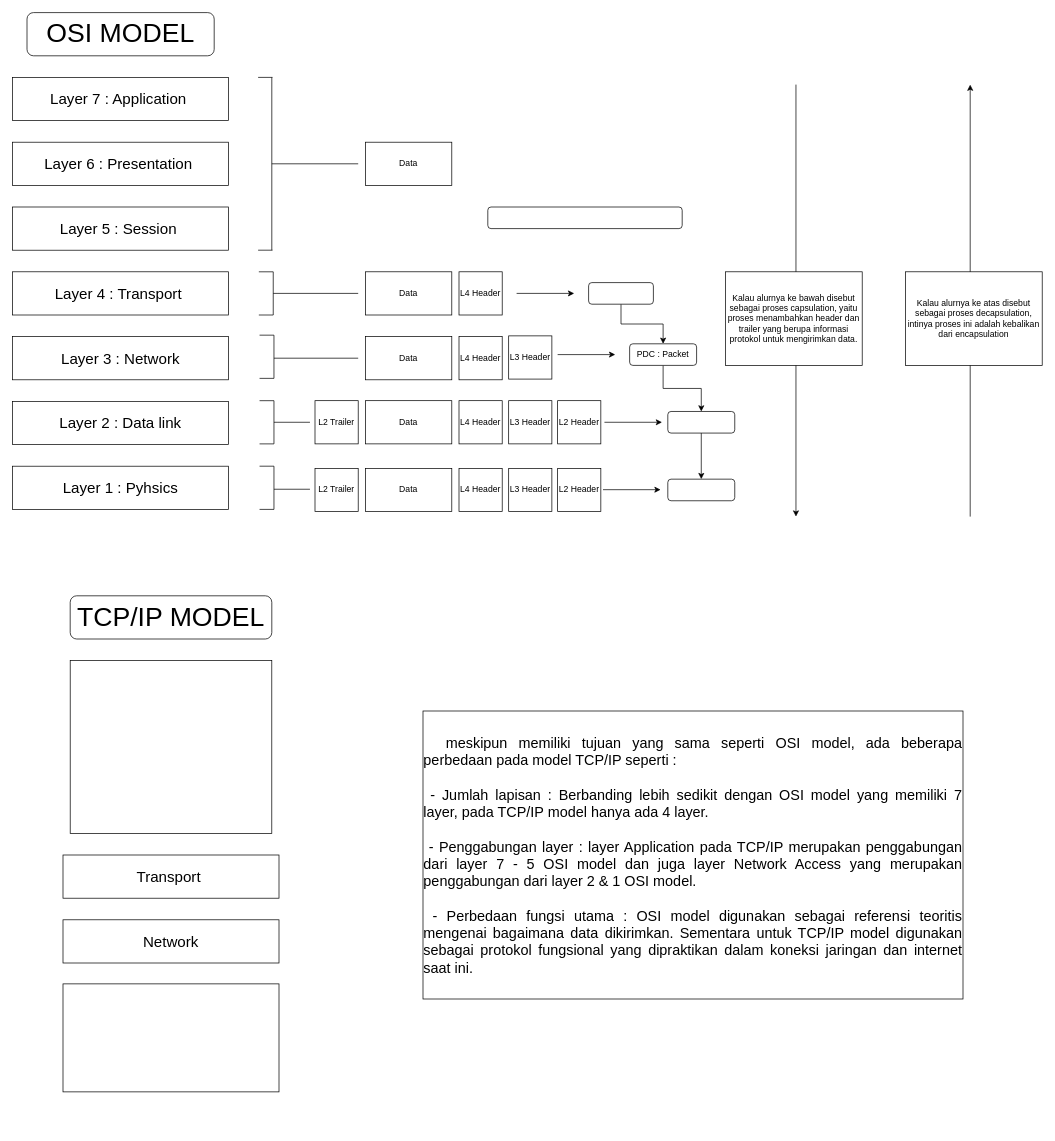
Some shapes in this 1055 by 1141 pixel diagram are drawn without their labels. The box of each missing label's shape, as (x1, y1, x2, y2) in pixels:
*Note PDC kepanjangannya Protocol Data Unit: (487, 206, 682, 229)
Application: (69, 660, 272, 833)
Network access: (62, 983, 279, 1092)
PDC : Bit: (667, 478, 735, 501)
PDC : Frame: (667, 411, 735, 433)
PDC : segment: (588, 282, 653, 304)
